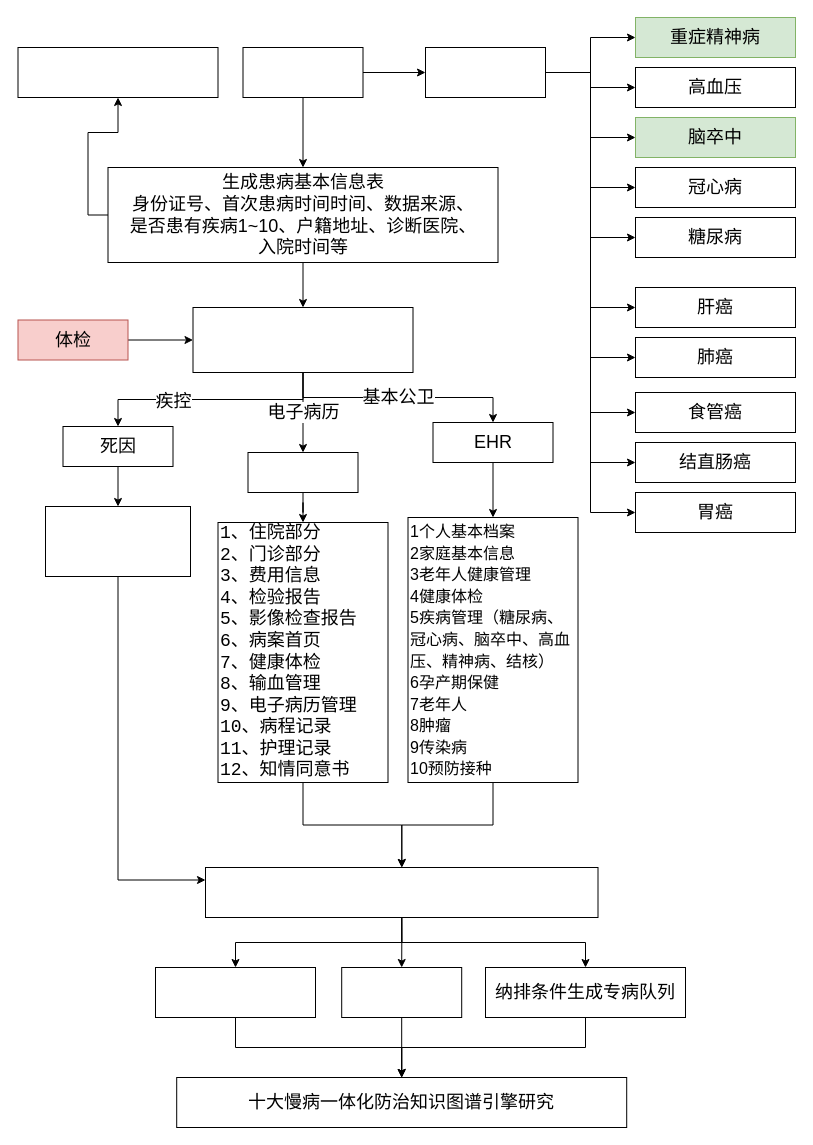
This 813x1145 diagram has some shape labels left out. The centre of each missing label's shape, as x and y in pixels:
10大慢病定义: the point at 485,72
case-control_study: the point at 117,72
EMR: the point at 302,472
公共指标库: the point at 401,992
患病人群确定: the point at 302,72
指标定义知识库: the point at 235,992
接入平台资源中心，定义指标变量整理优化数据: the point at 401,892
根据确定人群唯一身份标识检索所有医疗数据: the point at 302,339
死亡事件、死亡原因、疾病编码: the point at 117,541
